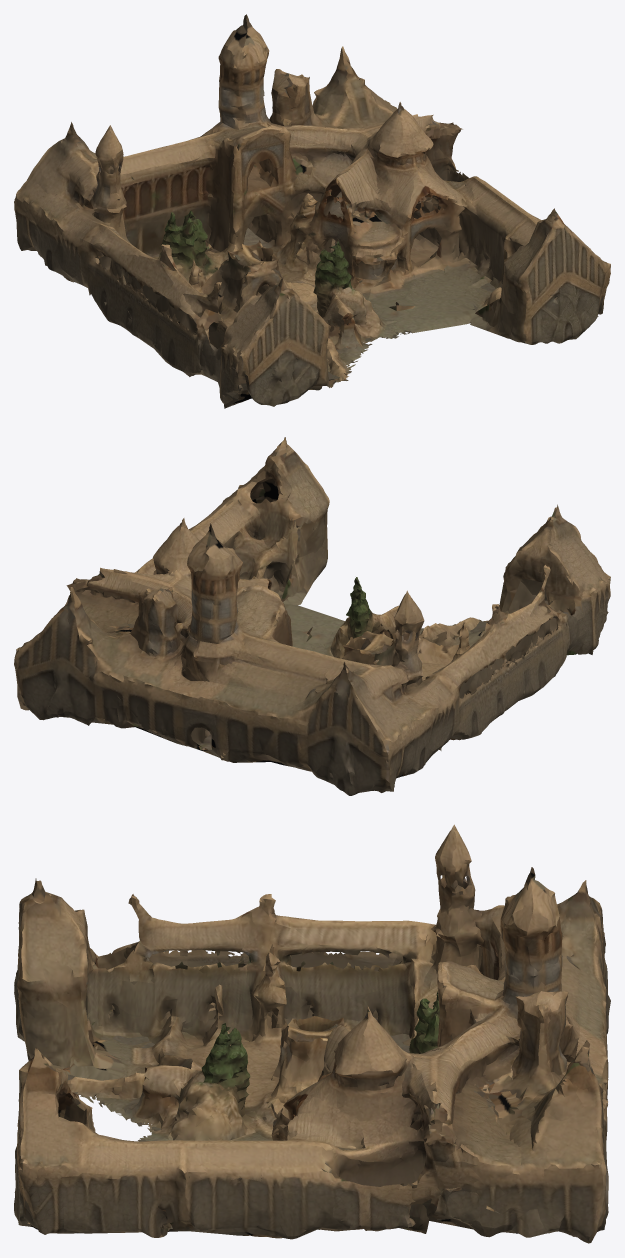
Rendered from elf_city.glb.
3 renders of one model, top to bottom at view 1: azimuth 30°, elevation 25°; view 2: azimuth 150°, elevation 25°; view 3: azimuth 270°, elevation 25°, orthographic. The views are drawn at different scales.
Parts seen in each view (by area): view 1: output_unwrapped; view 2: output_unwrapped; view 3: output_unwrapped.
Boxes of the visible parts, x1=… form: output_unwrapped: x1=14, y1=14, x2=610, y2=408; output_unwrapped: x1=14, y1=437, x2=610, y2=795; output_unwrapped: x1=14, y1=824, x2=610, y2=1243.
Size of the model in its own units: 1.81 by 0.9783 by 1.89.
Materials: 1 (1 with a texture image).
